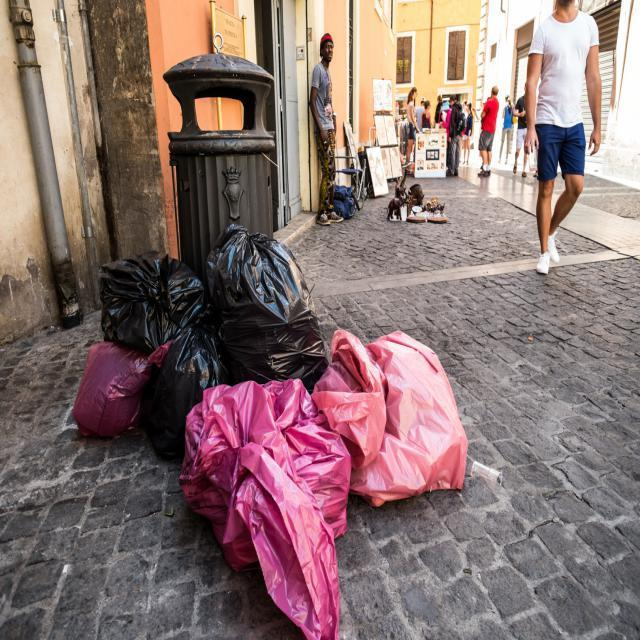high trash: (72, 225, 468, 640)
